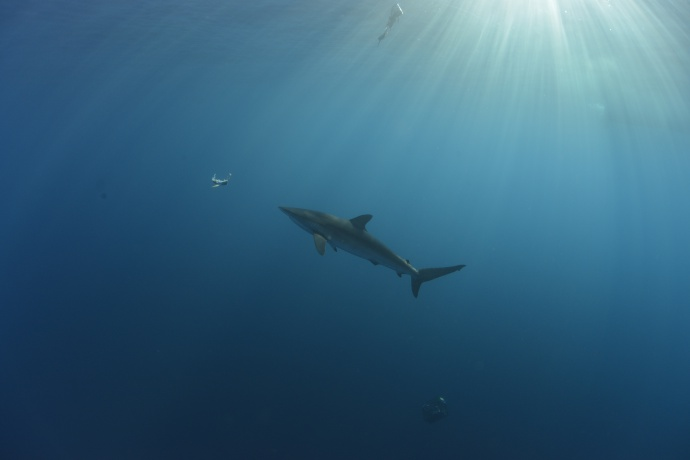Sedoso: (271, 198, 480, 315)
